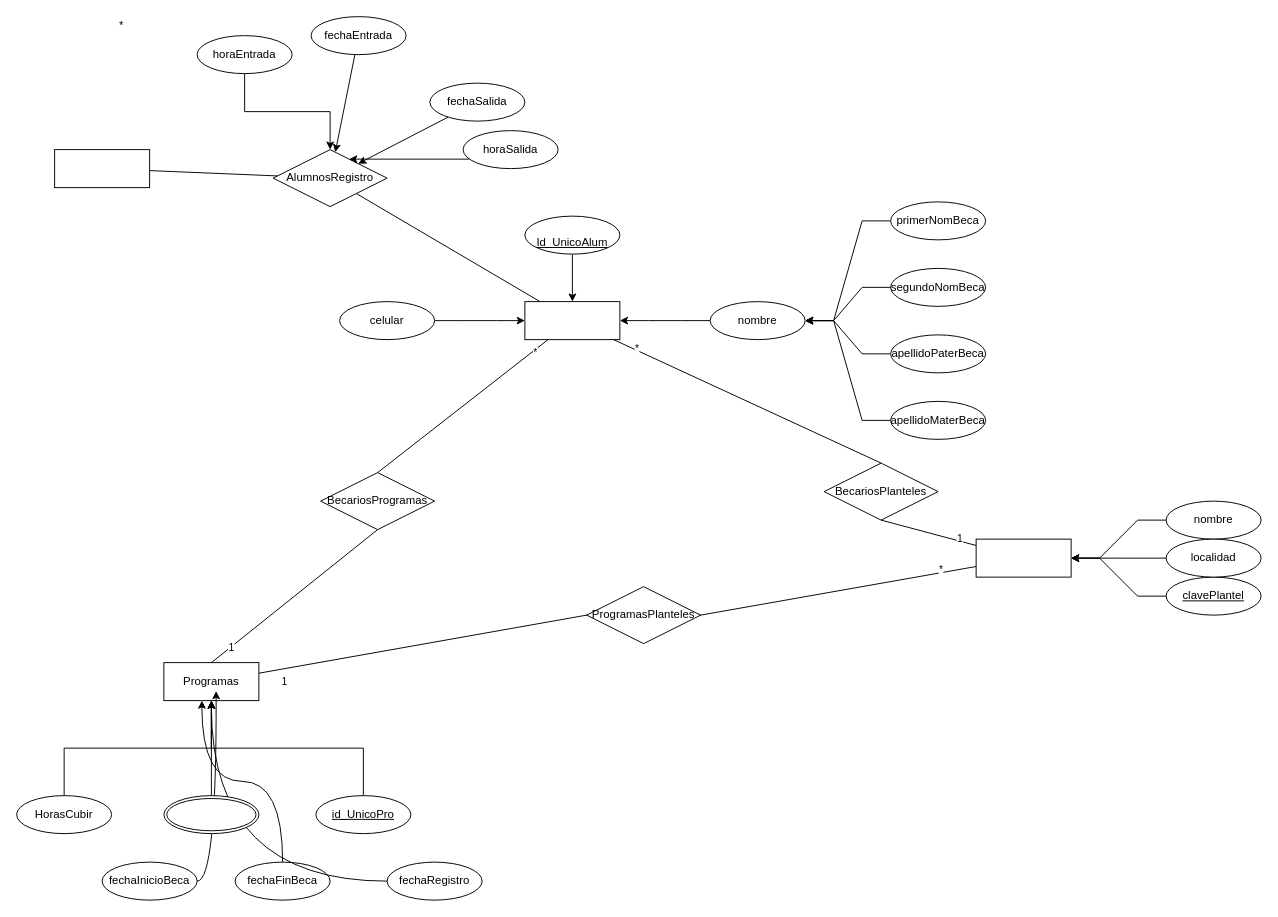
This 1278x917 diagram has some shape labels left out. The shapes that lost their labels are listed below. From the top down, each one's centre as x and y in pixels, then its label:
point (102, 168): Registro
point (572, 320): Becarios
point (1023, 557): Planteles
point (211, 814): tipoProgra
